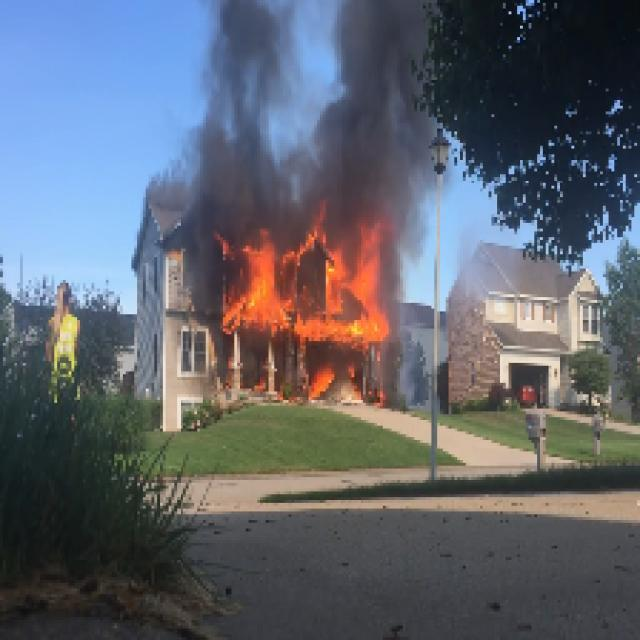Fire: (220, 242, 389, 332)
Smoke: (172, 3, 308, 220), (311, 3, 426, 194), (397, 200, 429, 389)
